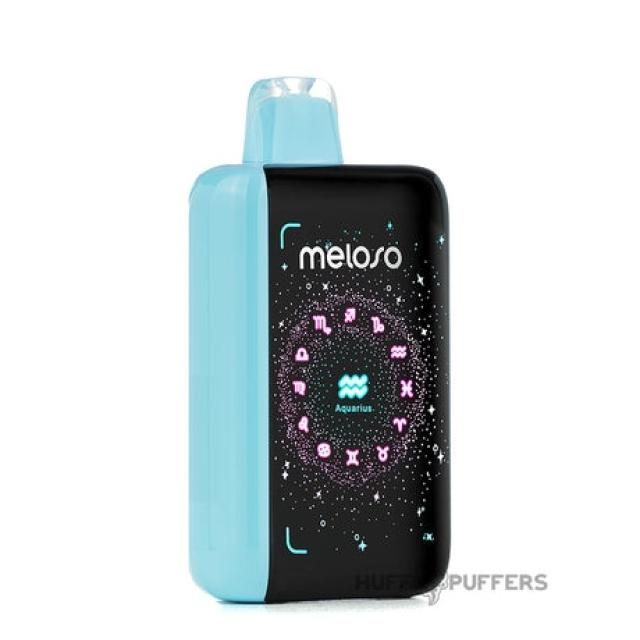Hazard: (187, 74, 452, 604)
